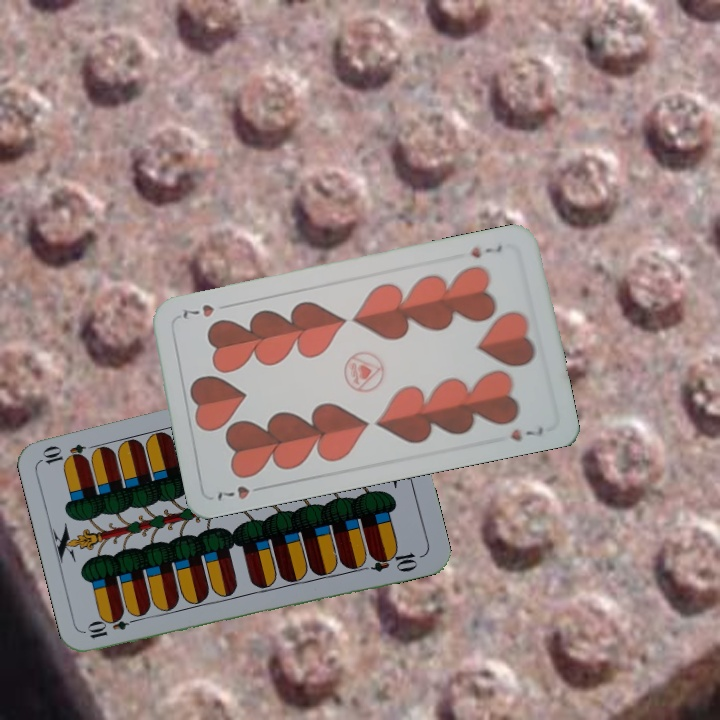E10: (84, 612, 143, 642)
H7: (213, 481, 269, 504), (467, 240, 505, 261)
